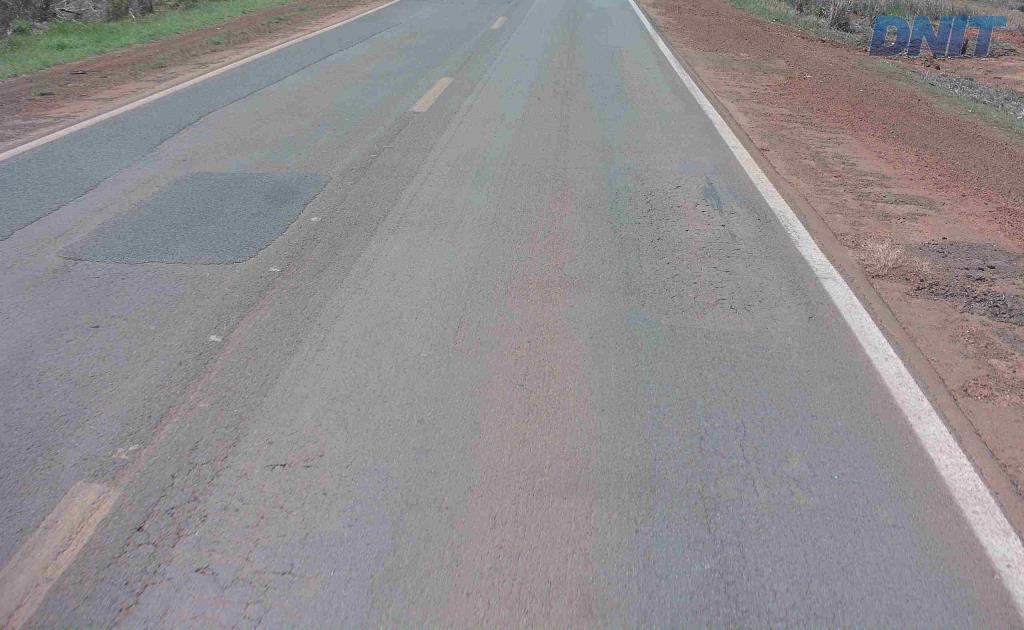crack: (114, 468, 182, 564)
